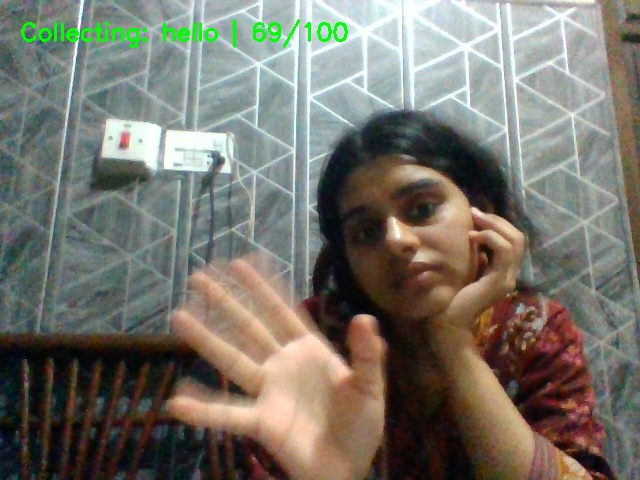hello: (152, 250, 390, 480)
